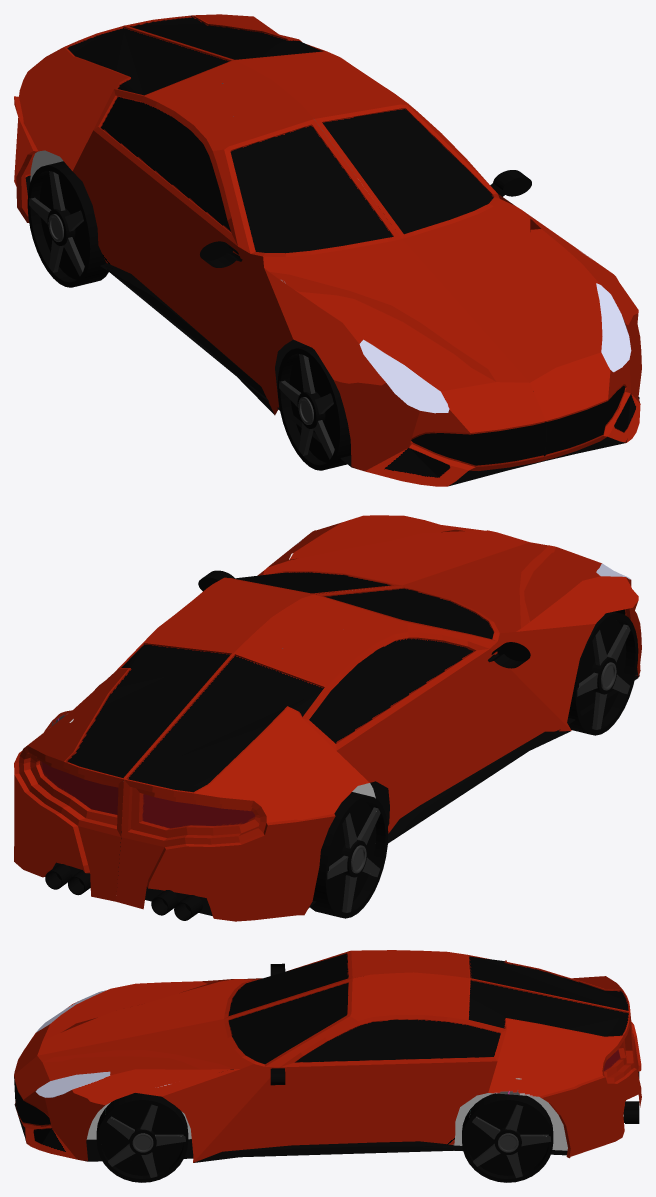
File: TESTferrari1w_bumper.fbx
The picture shows the model from 3 angles, top to bottom: view 1: azimuth 30°, elevation 25°; view 2: azimuth 150°, elevation 25°; view 3: azimuth 270°, elevation 25°; orthographic projection. The views are drawn at different scales.
Visible parts, largest first — view 1: CarBody, R_R_W, F_R_W; view 2: CarBody, R_R_W, F_R_W; view 3: CarBody, R_L_W, F_L_W.
Boxes of the visible parts, <box> form: CarBody: <box>14,14,641,486</box>; R_R_W: <box>27,161,108,287</box>; F_R_W: <box>277,345,350,470</box>; CarBody: <box>14,515,641,921</box>; R_R_W: <box>310,792,388,918</box>; F_R_W: <box>568,611,638,735</box>; CarBody: <box>14,950,641,1162</box>; R_L_W: <box>462,1093,553,1182</box>; F_L_W: <box>96,1093,188,1182</box>.
Bounding box in the file's own units: 3749 × 2376 × 8657.
